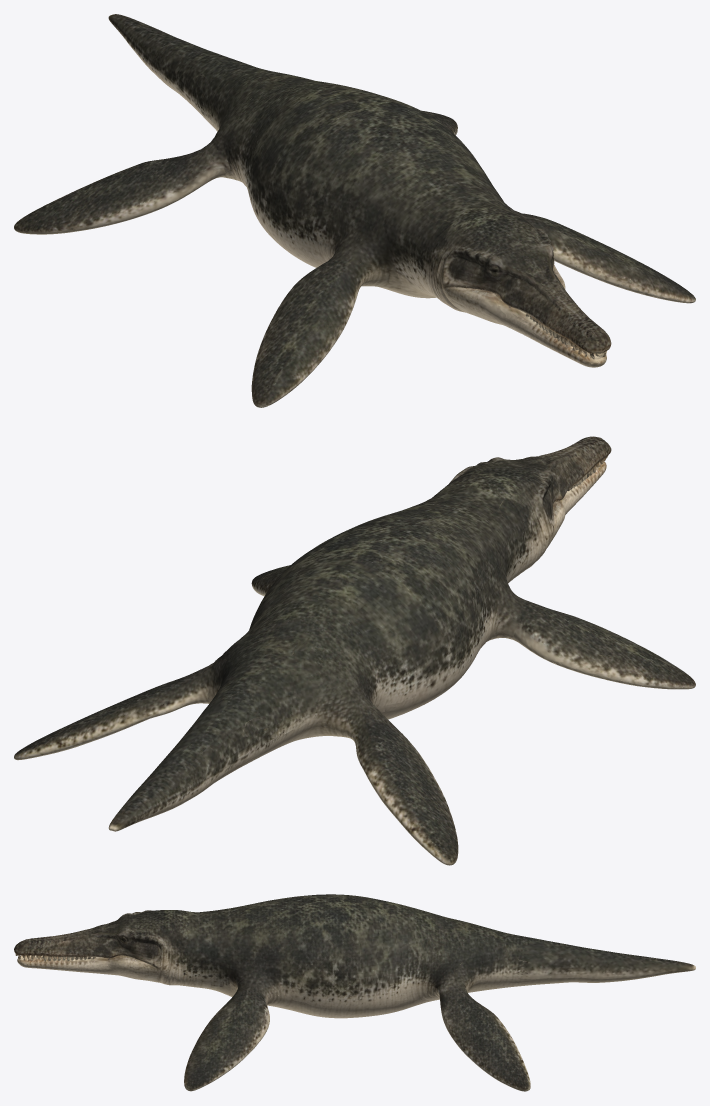
3 views of the same model, one above another, from view 1: azimuth 30°, elevation 25°; view 2: azimuth 150°, elevation 25°; view 3: azimuth 270°, elevation 25° (orthographic). The views are drawn at different scales.
Parts seen in each view (by area): view 1: Authored orientation; view 2: Authored orientation; view 3: Authored orientation.
Boxes of the visible parts, x1,y1,x2,y2 form: Authored orientation: (14,14,695,407); Authored orientation: (14,436,695,865); Authored orientation: (14,894,695,1091).
Bounding box in the file's own units: 4.13 × 1.5 × 8.
1 material, 1 textured.
